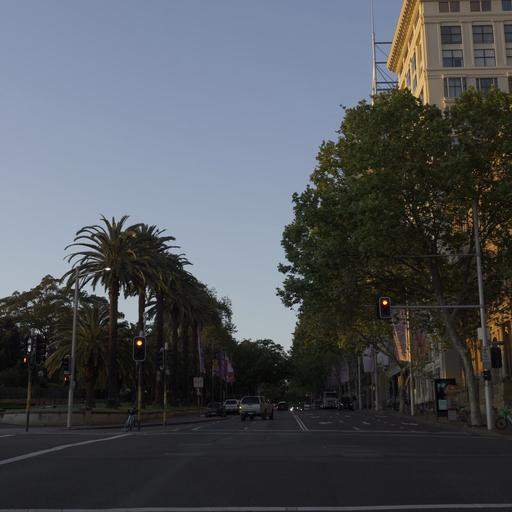Street light: (65, 265, 111, 427), (131, 335, 146, 430), (132, 336, 145, 362), (377, 295, 391, 319)
